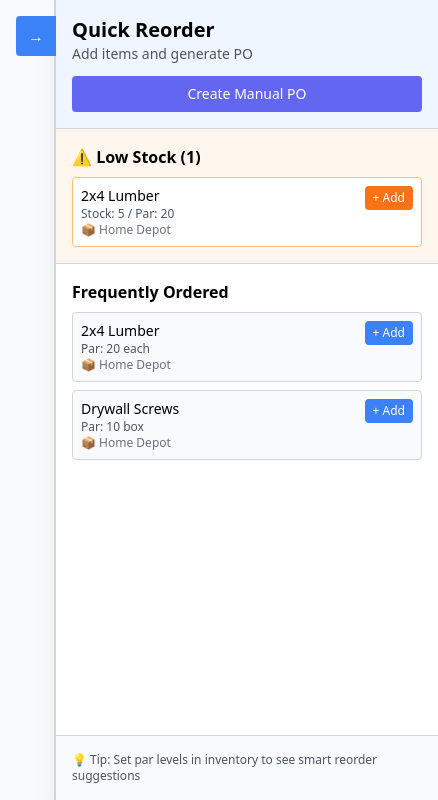
QuickReorder Component - Phase 2A › should remove item from cart
# Add item
Click the button "+ Add" in the row of "/ Par:": (389, 198) [365,186,413,210]
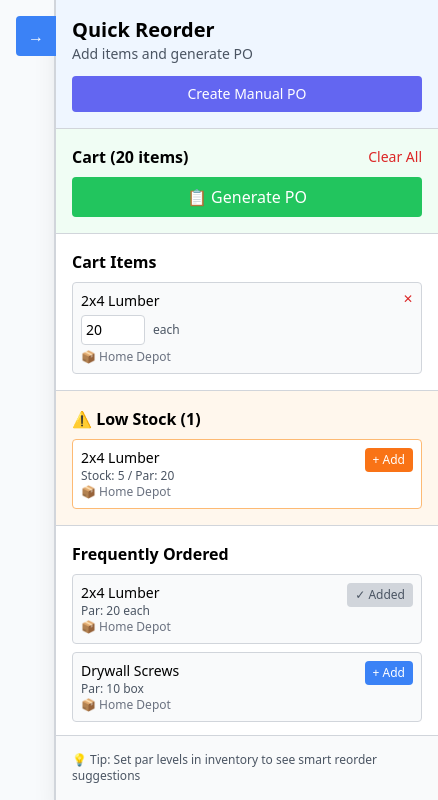
# Remove item
Click the button "✕": (408, 299) [403,291,413,307]
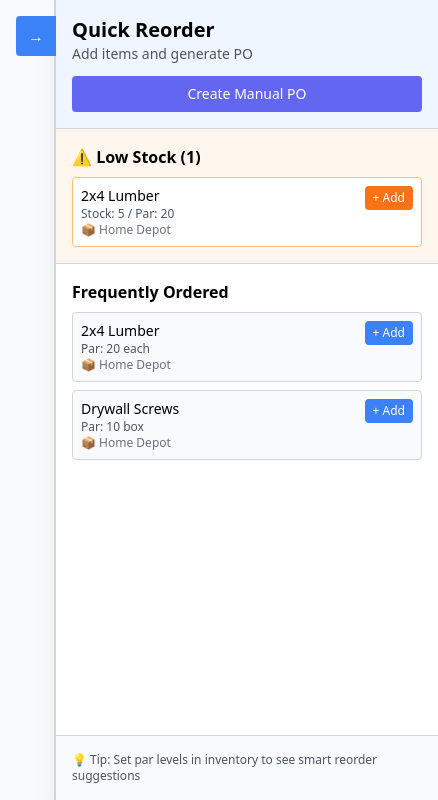
Expected: the text "Cart (" is gone
